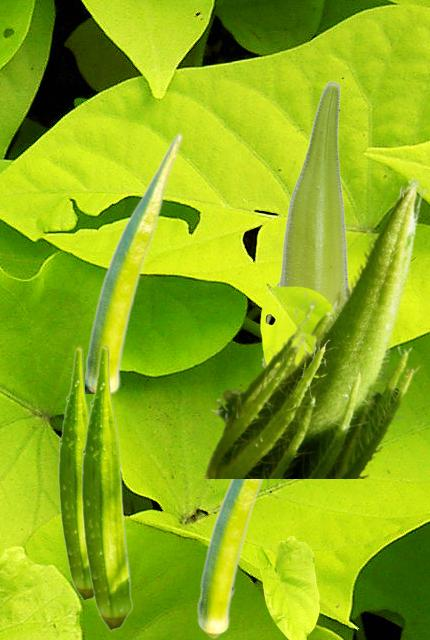okra: (201, 176, 426, 477), (261, 80, 349, 367), (85, 132, 181, 392), (81, 344, 132, 630), (197, 478, 265, 638), (58, 346, 93, 600)
